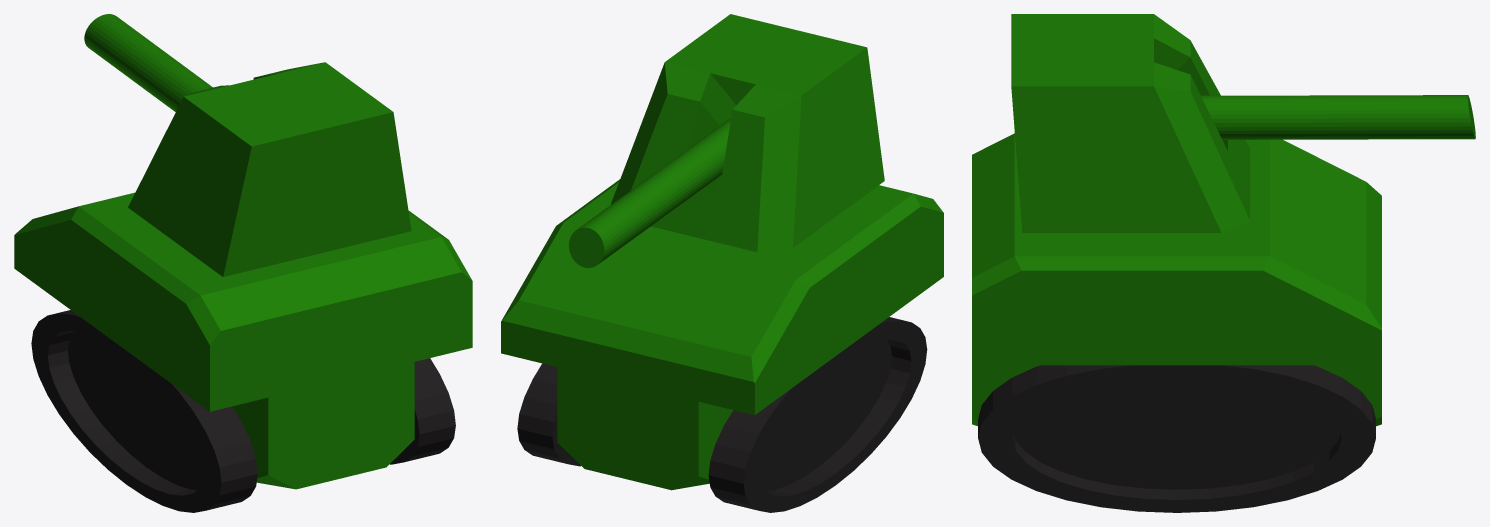
Rendered from tank_1.glb.
3 renders of one model, left to right at view 1: azimuth 30°, elevation 25°; view 2: azimuth 150°, elevation 25°; view 3: azimuth 270°, elevation 25°, orthographic. The views are drawn at different scales.
Parts seen in each view (by area): view 1: Cylinder.001, Cube.001; view 2: Cylinder.001, Cube.001; view 3: Cylinder.001, Cube.001.
Part boxes in pixels (x1,y1,x2,y2): Cylinder.001: (14, 192, 472, 512); Cube.001: (84, 14, 411, 276); Cylinder.001: (501, 179, 943, 512); Cube.001: (569, 14, 884, 267); Cylinder.001: (972, 133, 1381, 512); Cube.001: (1011, 14, 1475, 232).
Size of the model in its own units: 2.79 by 3.9 by 4.42.
